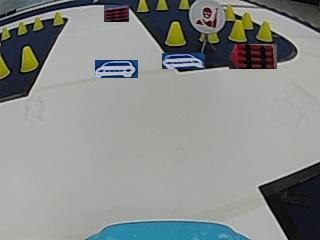evil: (189, 0, 225, 34)
